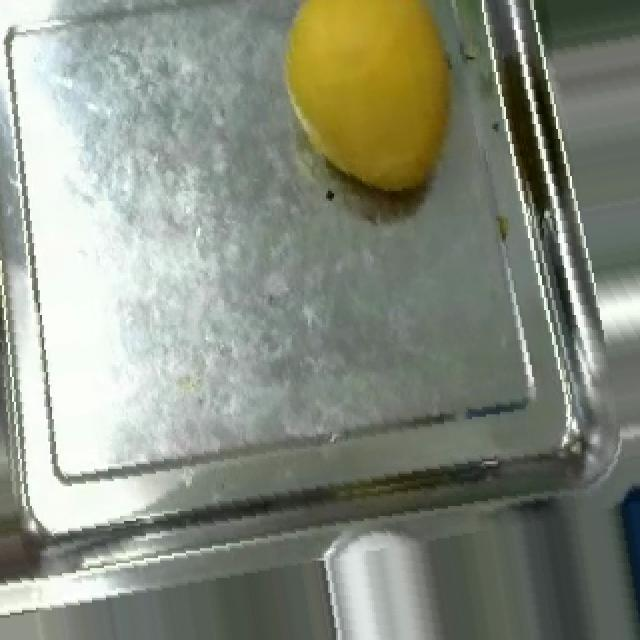fruit: (254, 0, 490, 226)
